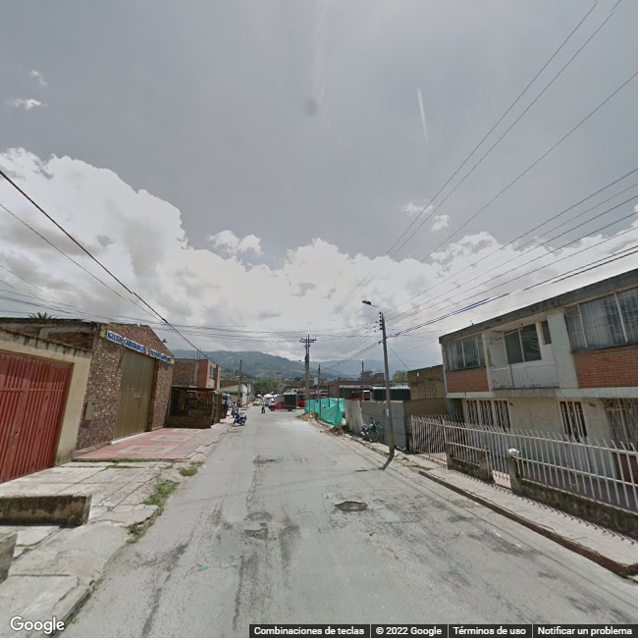D00: (426, 533, 475, 577), (232, 543, 245, 623), (268, 538, 277, 598)
D40: (340, 497, 369, 513)
